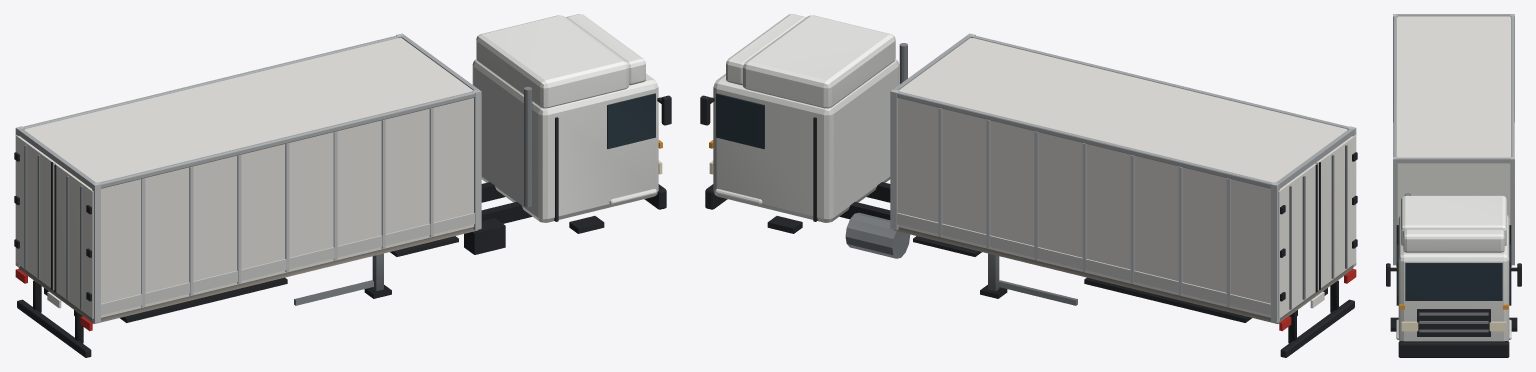
The model's file is semirremolque-DB-lUYmb.glb.
3 views of the same model, side by side, from view 1: azimuth 30°, elevation 25°; view 2: azimuth 150°, elevation 25°; view 3: azimuth 270°, elevation 25° (orthographic). The views are drawn at different scales.
Visible parts, largest first — view 1: pieza.020, tractor, techo, puerta-2, puerta-1, pieza.028, pieza.033, pieza.010, pieza.030, pieza.009, pieza.034, pieza.035 (+10 smaller); view 2: pieza.011, tractor, techo, puerta-1, puerta-2, pieza.019, pieza.030, pieza.010, pieza.033, pieza.004, pieza.031, pieza.032 (+10 smaller); view 3: tractor, techo, pieza.029, pieza.037, pieza.030, pieza.033, pieza.032, pieza.035, pieza.036.
Boxes of the visible parts, box(x1,y1,x2,y2) form: pieza.020: box(101, 98, 473, 317); tractor: box(390, 14, 671, 256); techo: box(24, 38, 472, 182); puerta-2: box(14, 135, 56, 290); puerta-1: box(54, 163, 93, 318); pieza.028: box(101, 213, 474, 315); pieza.033: box(99, 91, 474, 188); pieza.010: box(18, 227, 477, 323); pieza.030: box(23, 35, 398, 128); pieza.009: box(120, 277, 287, 322); pieza.034: box(92, 182, 100, 323); pieza.035: box(472, 89, 481, 230); pieza.011: box(898, 98, 1270, 317); tractor: box(700, 14, 981, 258); techo: box(899, 38, 1347, 182); puerta-1: box(1315, 135, 1357, 290); puerta-2: box(1278, 163, 1317, 318); pieza.019: box(897, 213, 1270, 315); pieza.030: box(897, 91, 1272, 188); pieza.010: box(894, 227, 1353, 323); pieza.033: box(973, 35, 1348, 128); pieza.004: box(1084, 277, 1251, 322); pieza.031: box(1271, 182, 1279, 323); pieza.032: box(890, 89, 899, 230); tractor: box(1386, 193, 1521, 357); techo: box(1397, 16, 1510, 157); pieza.029: box(1397, 163, 1510, 224); pieza.037: box(1397, 157, 1510, 163); pieza.030: box(1511, 16, 1514, 156); pieza.033: box(1393, 16, 1396, 156); pieza.032: box(1510, 157, 1514, 265); pieza.035: box(1393, 157, 1397, 265); pieza.036: box(1397, 14, 1510, 16).
Bounding box in the file's own units: 11.17 × 3.48 × 2.94.
